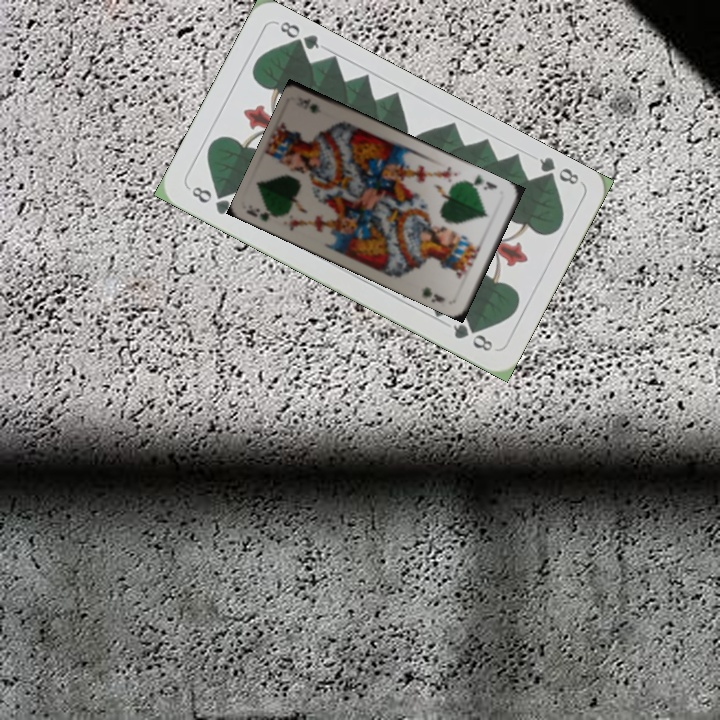G8: (187, 182, 234, 217), (535, 153, 582, 188)
GK: (243, 204, 286, 224), (465, 170, 499, 193)
